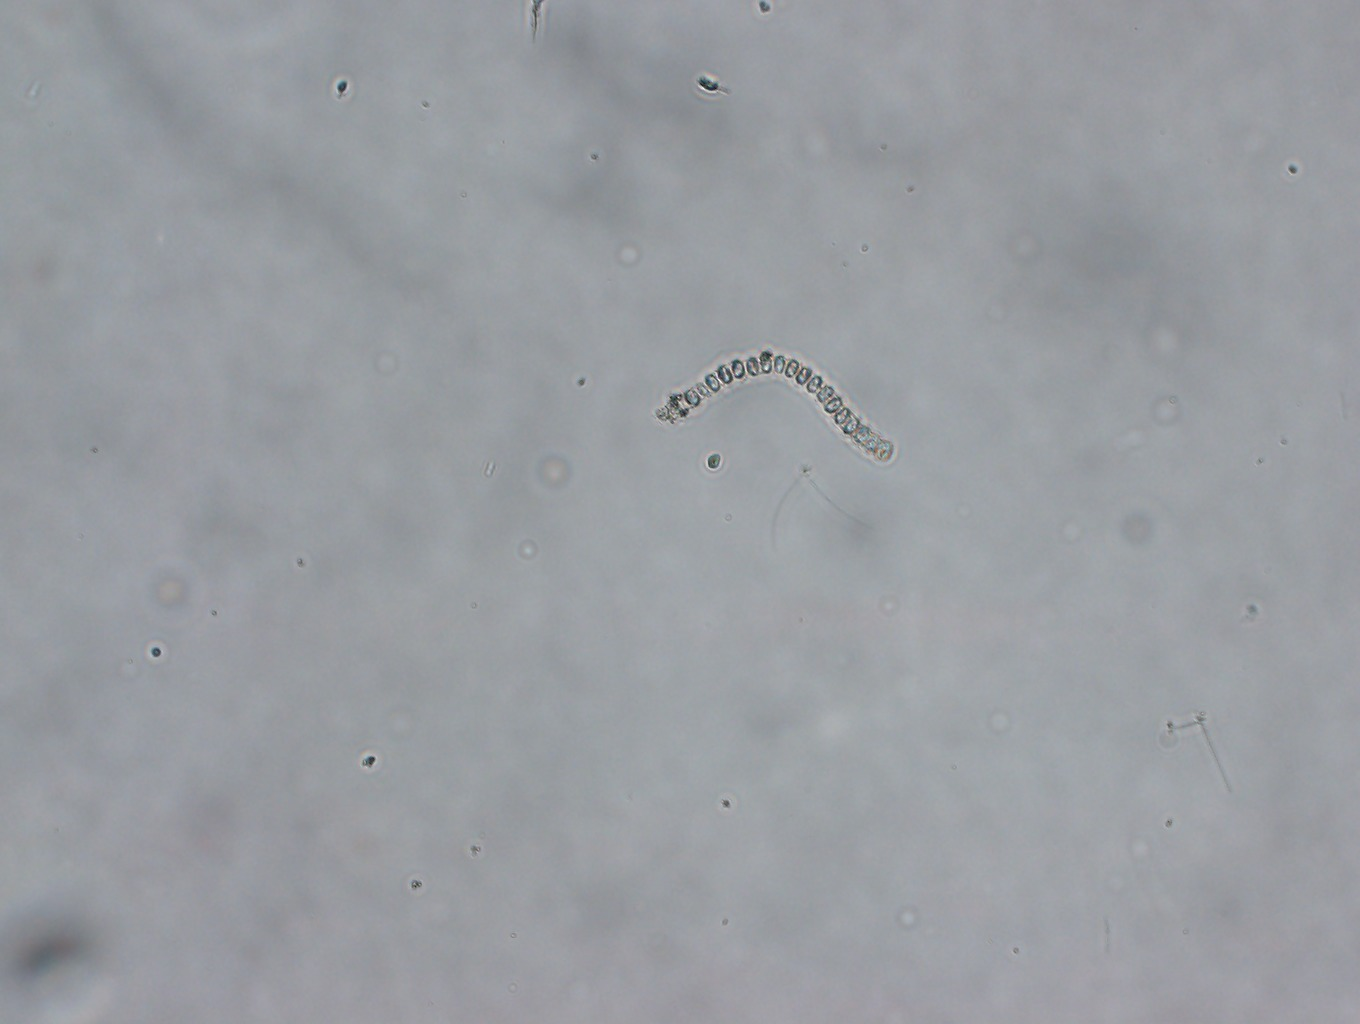skeletonema: (647, 342, 900, 478)
